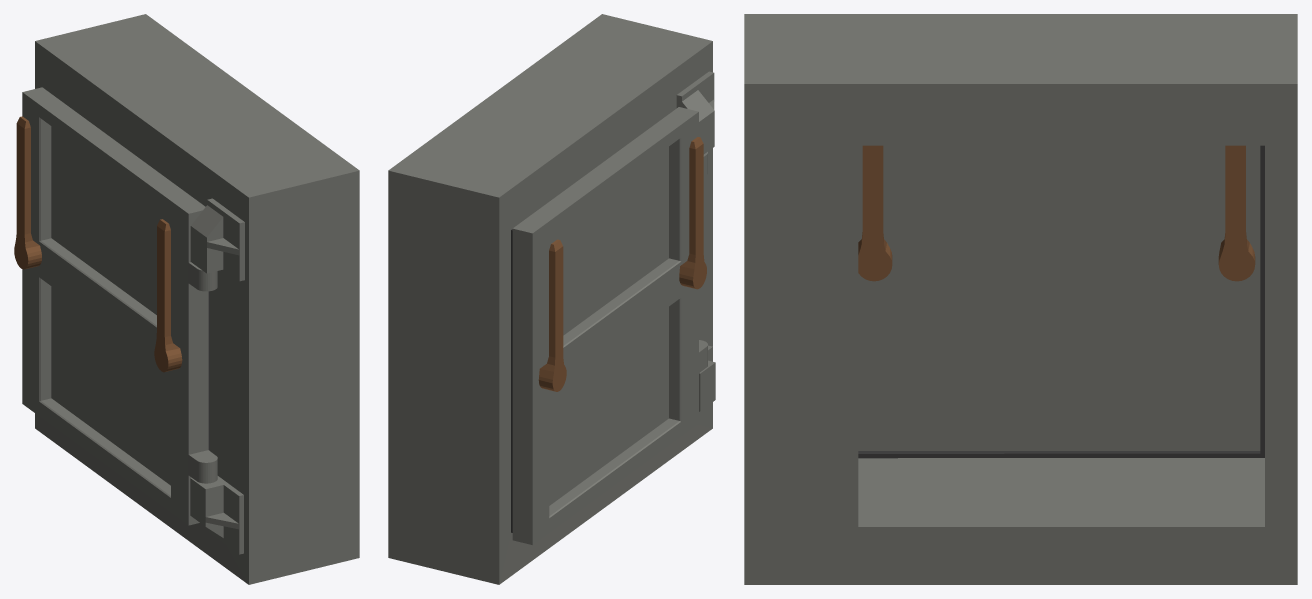
File: HermoHatch.fbx
The picture shows the model from 3 angles, left to right: view 1: azimuth 30°, elevation 25°; view 2: azimuth 150°, elevation 25°; view 3: azimuth 270°, elevation 25°; orthographic projection. The views are drawn at different scales.
Parts seen in each view (by area): view 1: Frame, Hatch, Hand1, Hand2; view 2: Frame, Hatch, Hand1, Hand2; view 3: Frame, Hatch, Hand2, Hand1.
Part boxes in pixels (<box>): Frame: <box>35,14,359,584</box>; Hatch: <box>22,87,217,525</box>; Hand1: <box>14,116,41,269</box>; Hand2: <box>154,219,182,372</box>; Frame: <box>388,14,715,584</box>; Hatch: <box>511,107,707,544</box>; Hand1: <box>538,239,566,391</box>; Hand2: <box>679,137,706,289</box>; Frame: <box>744,14,1297,584</box>; Hatch: <box>858,145,1264,458</box>; Hand2: <box>858,145,892,281</box>; Hand1: <box>1218,145,1255,281</box>.
Bounding box in the file's own units: 120 × 299 × 300.
